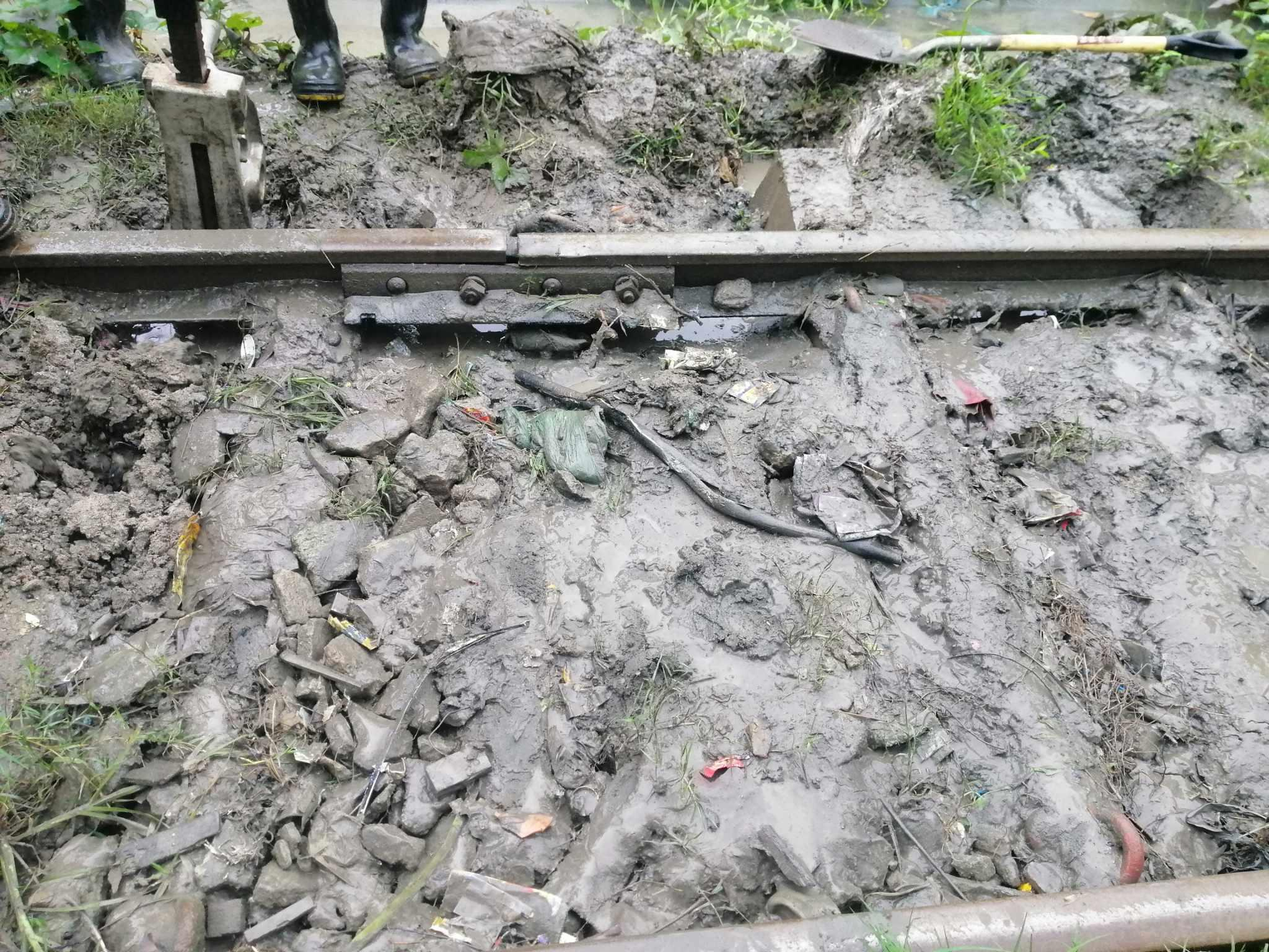railway-gap: (474, 209, 558, 285)
